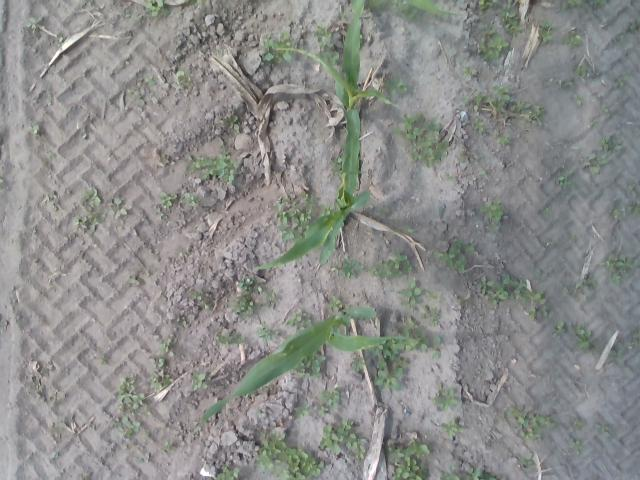Maize: (198, 305, 418, 422), (254, 102, 371, 268), (276, 4, 401, 110), (402, 0, 462, 17), (350, 0, 367, 11)
Weeds: (254, 428, 324, 480), (392, 112, 449, 168), (461, 86, 545, 123), (274, 194, 316, 239), (320, 419, 366, 460), (508, 404, 556, 442), (388, 438, 430, 480), (434, 237, 476, 274), (502, 272, 548, 304), (188, 155, 238, 184), (477, 23, 509, 61), (600, 253, 638, 284), (374, 341, 418, 367), (260, 31, 293, 63), (118, 374, 144, 412), (571, 321, 598, 357), (148, 358, 174, 390), (396, 279, 421, 311), (328, 258, 364, 279), (374, 368, 404, 392), (387, 251, 413, 277), (434, 382, 458, 410), (110, 416, 140, 438), (580, 153, 608, 176), (500, 8, 522, 37), (301, 354, 326, 379), (285, 308, 312, 330), (316, 387, 343, 409), (108, 197, 134, 218), (80, 187, 101, 213), (481, 197, 503, 220), (487, 282, 508, 306), (237, 275, 263, 294), (129, 78, 146, 107), (232, 294, 254, 316), (257, 321, 281, 341), (315, 24, 333, 50), (420, 304, 441, 326), (188, 288, 210, 309), (441, 419, 465, 438), (216, 330, 246, 344), (370, 260, 392, 278), (217, 463, 240, 480), (366, 0, 396, 13), (466, 467, 496, 480), (384, 77, 408, 93), (476, 276, 494, 296), (158, 338, 176, 358), (158, 191, 178, 208), (439, 464, 460, 480), (190, 373, 208, 391), (220, 115, 239, 132), (563, 31, 583, 47), (515, 452, 535, 468), (318, 50, 339, 64), (146, 0, 163, 17), (556, 170, 572, 188), (401, 6, 420, 21), (398, 321, 418, 335), (454, 289, 470, 306), (522, 306, 538, 321), (330, 156, 342, 176), (88, 213, 106, 226), (350, 356, 366, 370), (182, 192, 198, 206), (468, 118, 485, 131), (456, 151, 474, 163), (24, 16, 42, 28), (569, 418, 584, 432), (328, 296, 343, 310), (296, 402, 310, 417), (478, 0, 497, 11), (417, 331, 429, 348), (130, 452, 150, 462), (614, 76, 630, 88), (537, 30, 552, 42), (74, 214, 86, 229), (424, 290, 441, 300), (609, 343, 622, 356), (574, 64, 586, 78), (595, 424, 609, 436), (554, 320, 566, 333), (320, 204, 333, 216), (175, 70, 186, 84), (396, 225, 415, 233), (599, 136, 611, 148), (54, 422, 66, 434), (569, 440, 582, 451), (497, 133, 509, 144), (266, 289, 276, 302), (632, 328, 640, 344), (572, 94, 582, 106), (612, 206, 622, 218), (176, 314, 186, 326), (602, 104, 610, 118), (626, 206, 640, 214), (540, 20, 551, 30), (154, 210, 164, 221), (144, 76, 156, 85), (160, 441, 170, 451), (220, 144, 230, 154), (28, 125, 40, 133), (584, 278, 596, 286), (162, 152, 170, 164), (569, 0, 582, 7), (562, 288, 575, 295), (540, 306, 549, 316), (431, 350, 441, 359), (44, 95, 52, 106), (56, 32, 64, 42), (162, 8, 170, 18), (318, 406, 328, 414), (100, 356, 109, 364), (462, 66, 472, 73), (488, 224, 498, 231), (445, 172, 455, 179), (497, 412, 505, 420), (590, 119, 599, 126), (434, 335, 441, 344), (596, 0, 608, 5), (396, 0, 404, 7), (534, 269, 542, 276), (628, 184, 636, 190), (129, 276, 135, 284), (52, 452, 58, 459), (564, 82, 572, 87), (546, 241, 552, 247), (614, 146, 622, 150), (478, 170, 486, 174), (546, 207, 551, 212), (196, 0, 203, 3), (0, 178, 4, 183)
